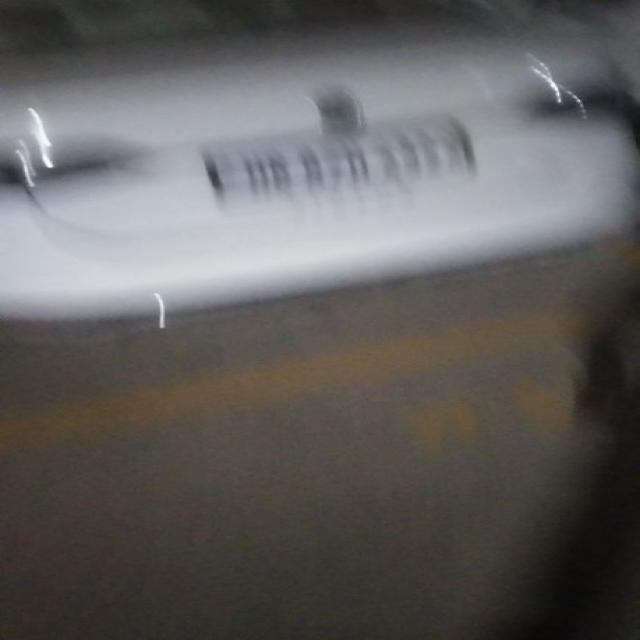license_plate: (1, 5, 638, 327)
